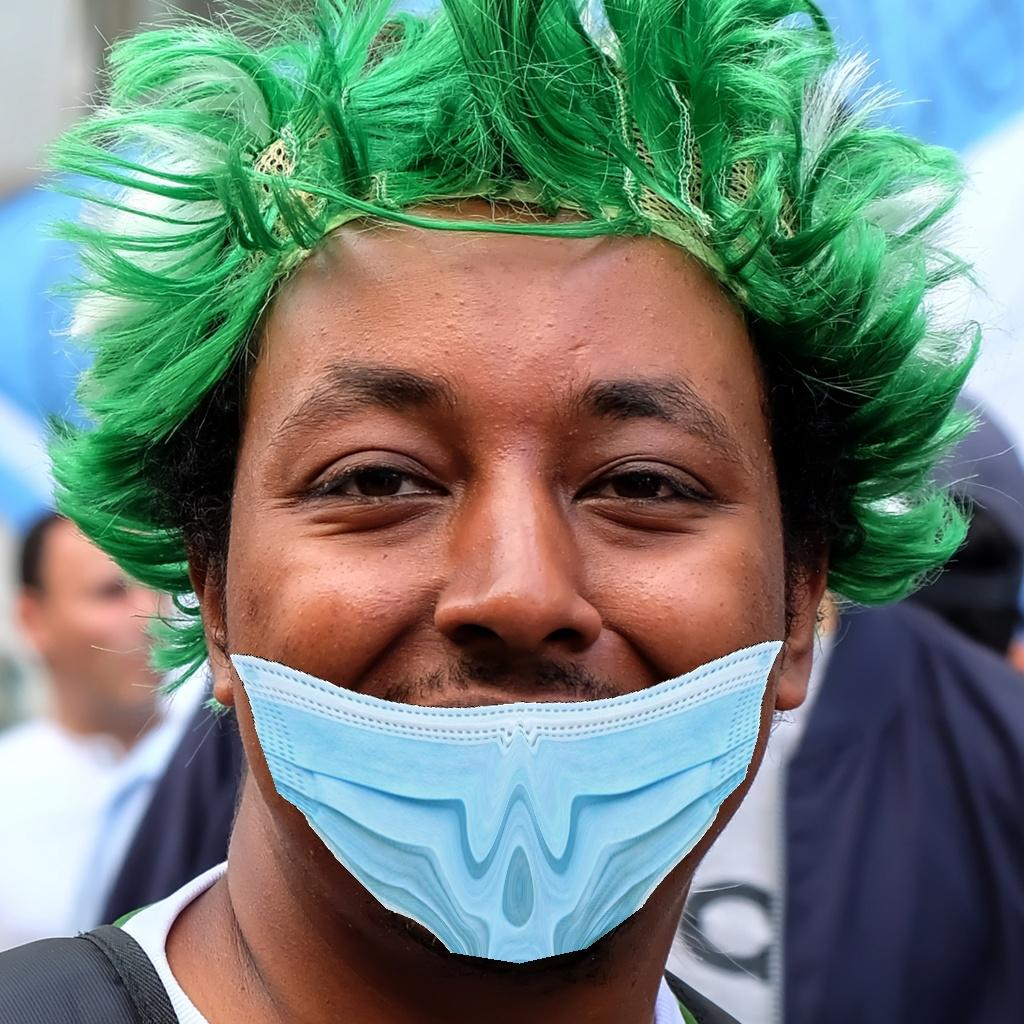Máscara Incorreta: (148, 193, 847, 966)
